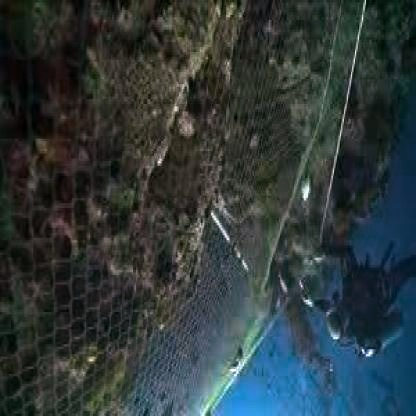net: (1, 3, 351, 408)
